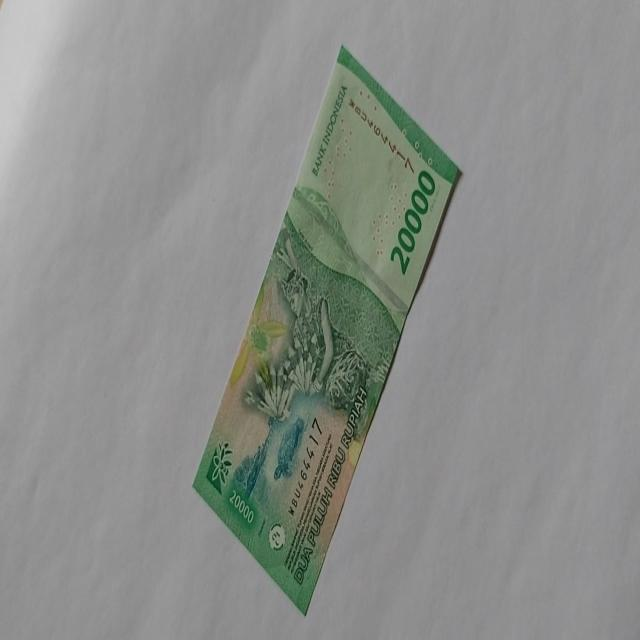dua puluh ribu rupiah: (190, 42, 462, 616)
